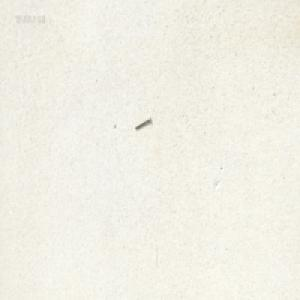Bolt: (134, 115, 151, 130)
